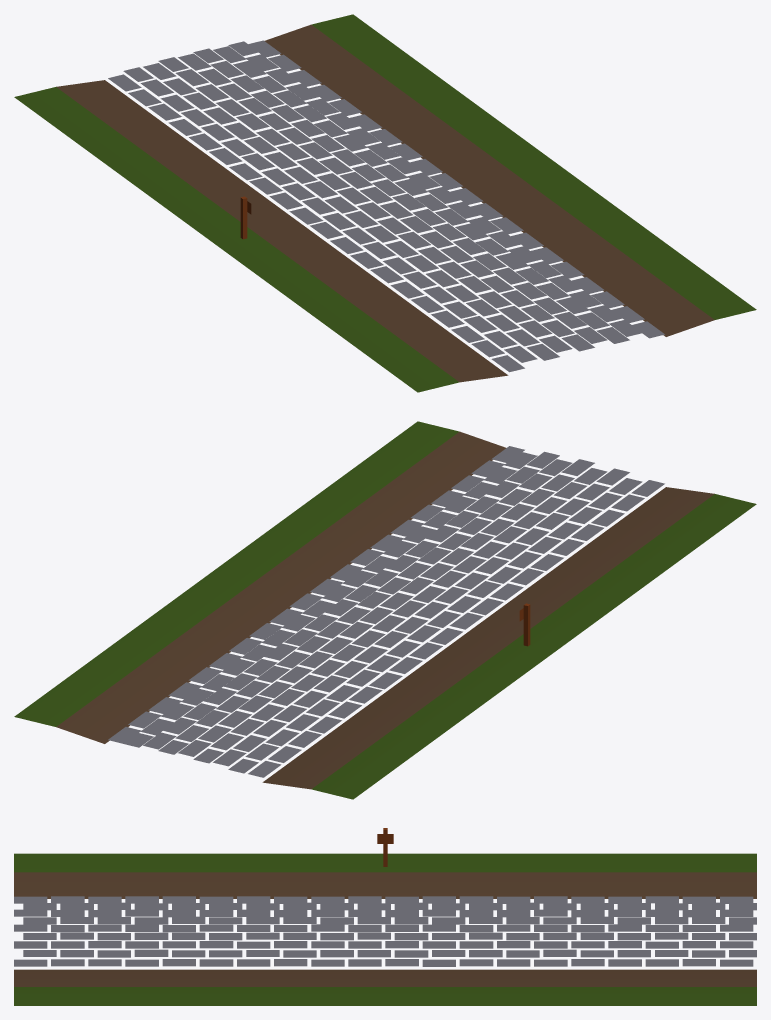
The model's file is road_cobbles.glb.
3 renders of one model, top to bottom at view 1: azimuth 30°, elevation 25°; view 2: azimuth 150°, elevation 25°; view 3: azimuth 270°, elevation 25°, orthographic. The views are drawn at different scales.
Visible parts, largest first — view 1: Road_Cobbles; view 2: Road_Cobbles; view 3: Road_Cobbles.
Part boxes in pixels (box(x1,y1,x2,y2)): Road_Cobbles: box(14, 14, 756, 392); Road_Cobbles: box(14, 421, 756, 799); Road_Cobbles: box(14, 828, 756, 1005).
Bounding box in the file's own units: 9.7 × 1.24 × 20.
